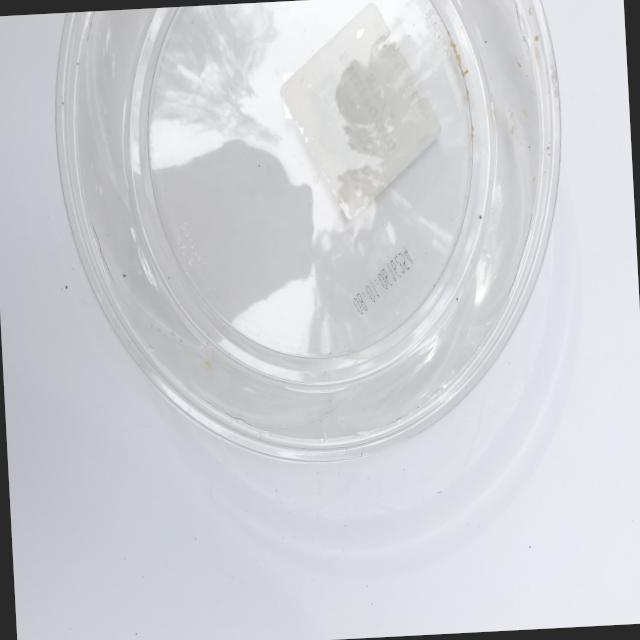Plastic: (25, 0, 608, 506)
